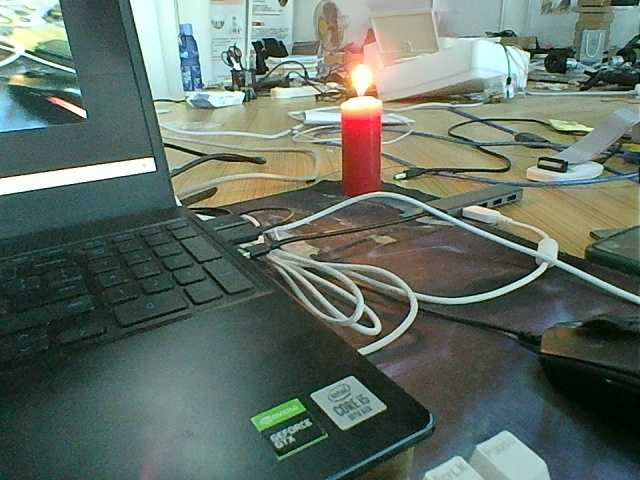candle: (332, 97, 386, 203)
fire: (344, 61, 377, 101)
